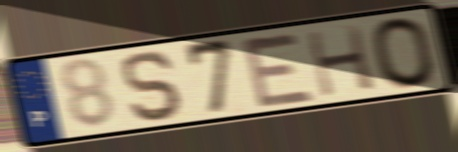7: (181, 37, 237, 119)
8: (57, 56, 123, 134)
E: (237, 31, 319, 110)
H: (303, 23, 380, 100)
O: (367, 14, 441, 91)
S: (119, 48, 188, 124)
